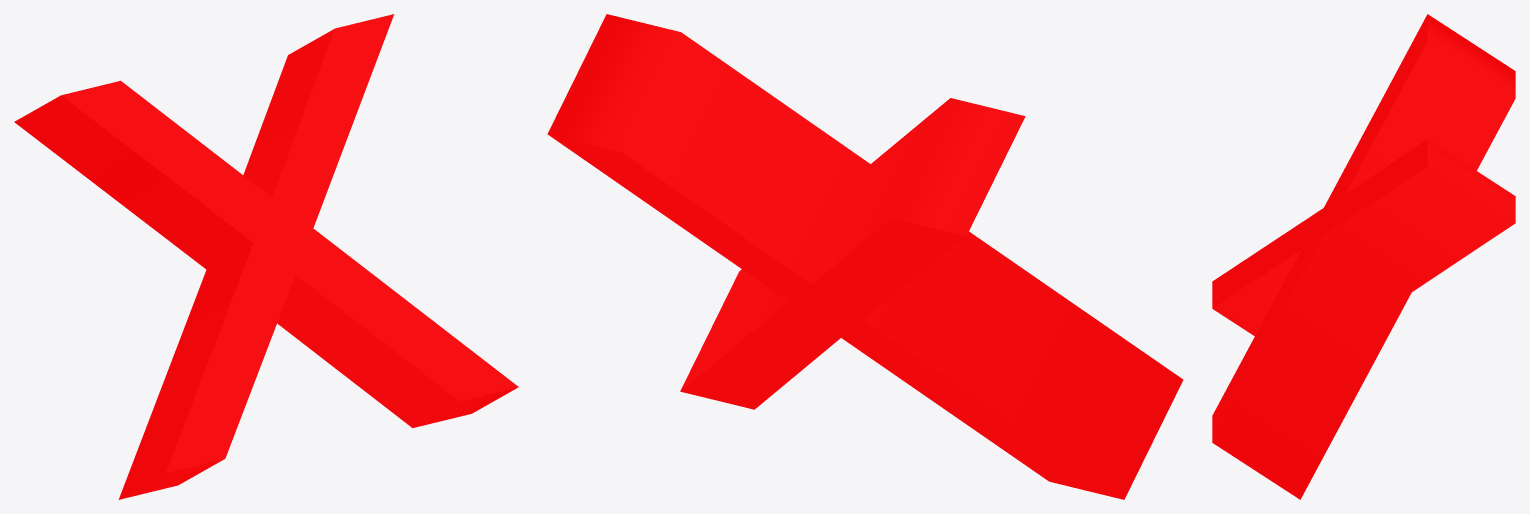
Rendered from No loaded Building.glb.
3 views of the same model, side by side, from view 1: azimuth 30°, elevation 25°; view 2: azimuth 150°, elevation 25°; view 3: azimuth 270°, elevation 25° (orthographic). The views are drawn at different scales.
Visible parts, largest first — view 1: No Loaded Building; view 2: No Loaded Building; view 3: No Loaded Building.
Boxes of the visible parts, x1,y1,x2,y2 form: No Loaded Building: (14, 14, 518, 499); No Loaded Building: (547, 14, 1183, 499); No Loaded Building: (1212, 14, 1515, 499).
Bounding box in the file's own units: 1.57 × 1.49 × 1.24.
